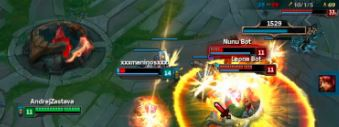bar: (217, 62, 278, 79), (207, 45, 268, 61), (114, 66, 173, 80), (21, 106, 82, 117), (279, 7, 337, 17)
